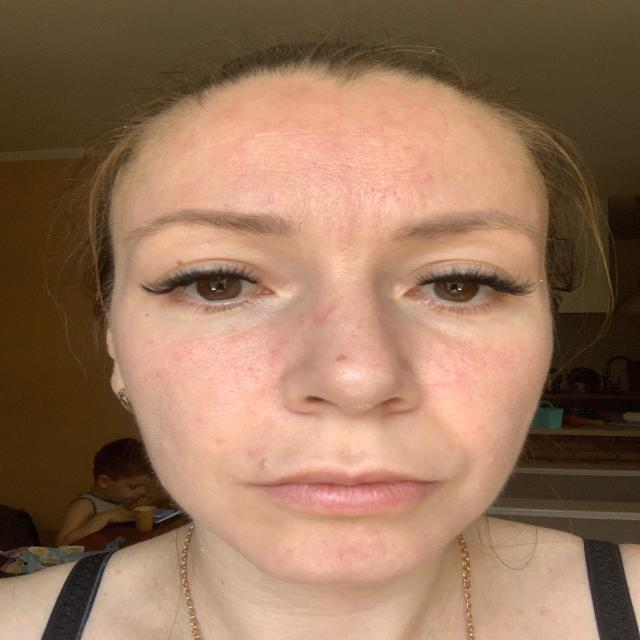Acne: (310, 303, 334, 325), (254, 457, 273, 472), (331, 352, 349, 363), (422, 170, 437, 183), (211, 436, 229, 446), (367, 524, 382, 536)
Englarged-Pores: (224, 153, 424, 196), (178, 332, 276, 392), (309, 195, 362, 272), (418, 348, 477, 395), (312, 540, 378, 565), (357, 192, 419, 215)
Wrinkles: (214, 128, 460, 149), (211, 411, 257, 482), (438, 414, 482, 476)
